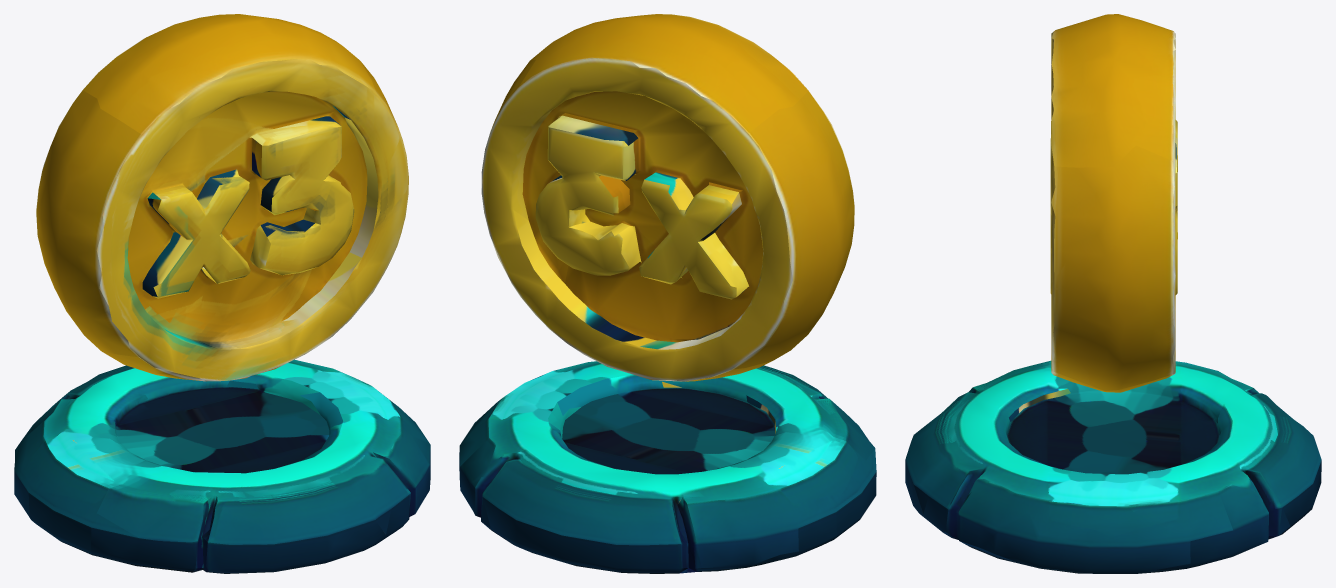
3 views of the same model, side by side, from view 1: azimuth 30°, elevation 25°; view 2: azimuth 150°, elevation 25°; view 3: azimuth 270°, elevation 25° (orthographic).
Parts seen in each view (by area): view 1: tmp56ycyj30.ply; view 2: tmp56ycyj30.ply; view 3: tmp56ycyj30.ply.
Boxes of the visible parts, left/top/right/bottom form: tmp56ycyj30.ply: left=14, top=14, right=430, bottom=573; tmp56ycyj30.ply: left=459, top=14, right=876, bottom=573; tmp56ycyj30.ply: left=905, top=14, right=1321, bottom=573.
Size of the model in its own units: 162 by 199 by 163.
Materials: 1 (1 with a texture image).
